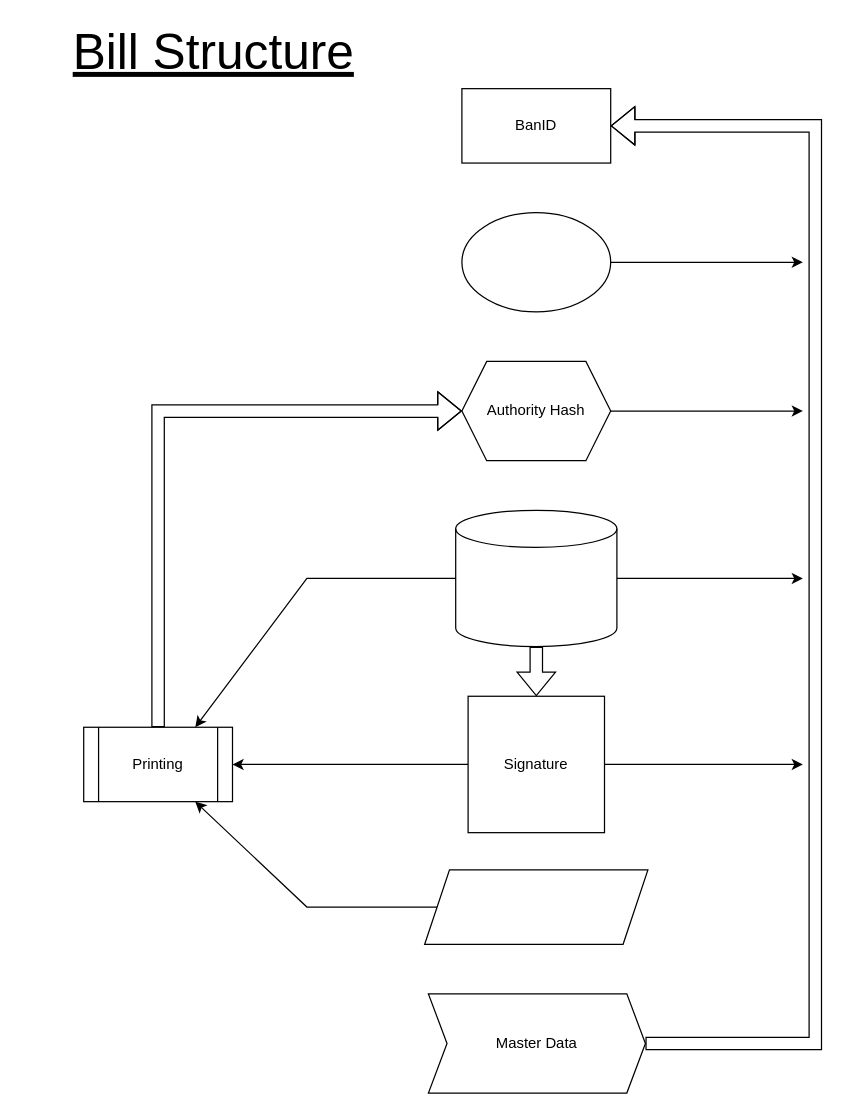
Image size: 843x1115. Some labels were removed from this diagram. The centre of each missing label's shape, as x and y in pixels:
Data (Difficulty of the Bill): (535,578)
Printer Address: (535,906)
Timestamp: (536,261)
